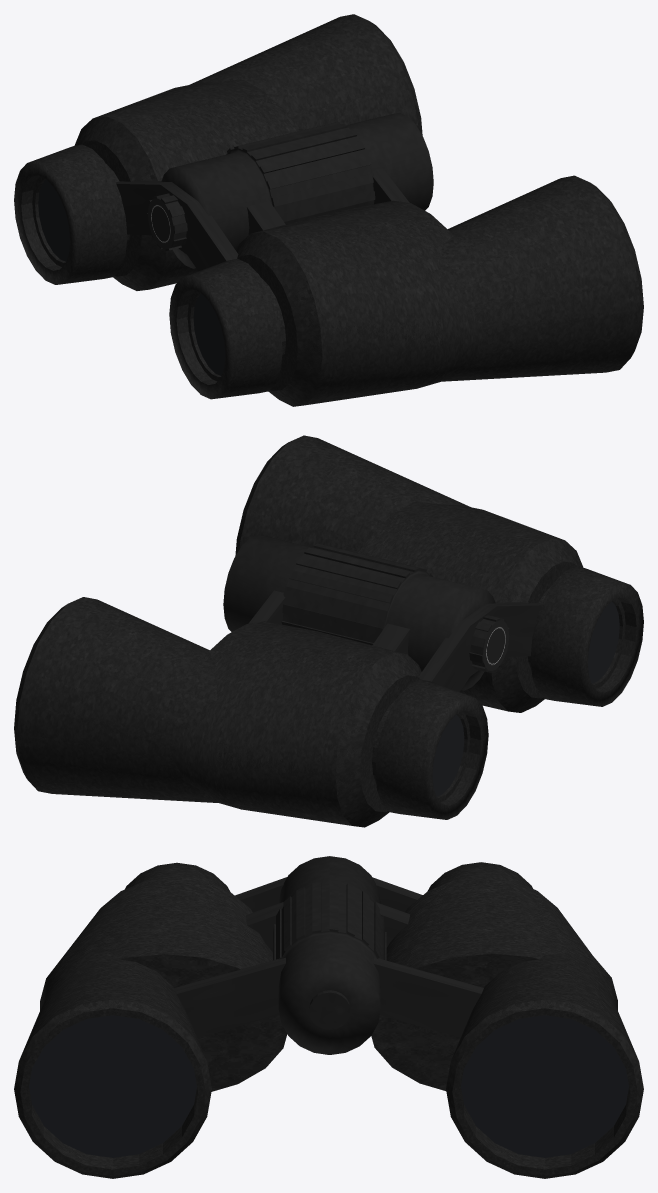
File: binoculars.fbx
3 views of the same model, one above another, from view 1: azimuth 30°, elevation 25°; view 2: azimuth 150°, elevation 25°; view 3: azimuth 270°, elevation 25° (orthographic). The views are drawn at different scales.
Parts seen in each view (by area): view 1: directionalLight2; view 2: directionalLight2; view 3: directionalLight2.
Boxes of the visible parts, x1,y1,x2,y2 form: directionalLight2: [14, 14, 643, 406]; directionalLight2: [14, 435, 643, 827]; directionalLight2: [14, 856, 643, 1178].
Size of the model in its own units: 4.66 by 2.35 by 7.15.
